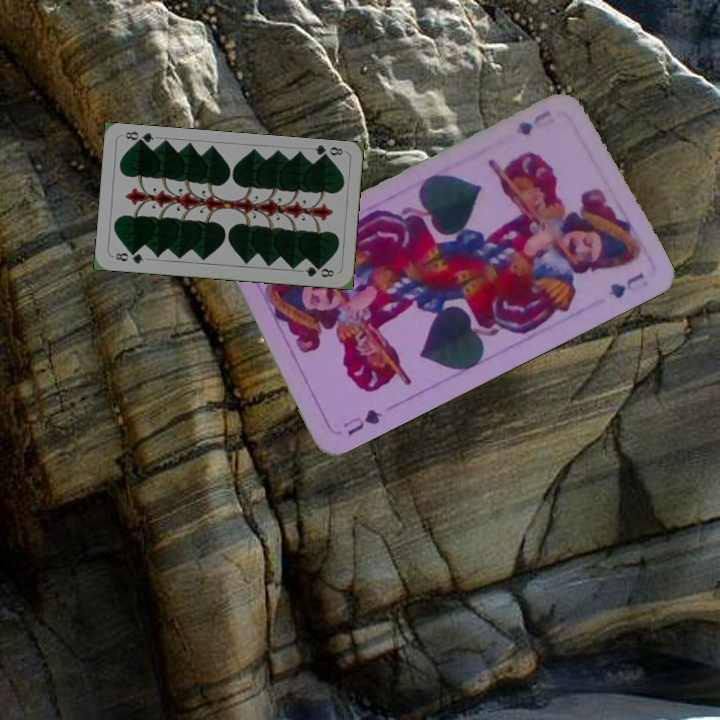G8: (311, 142, 345, 162), (111, 248, 146, 266)
GU: (339, 405, 385, 438), (512, 106, 554, 138)
